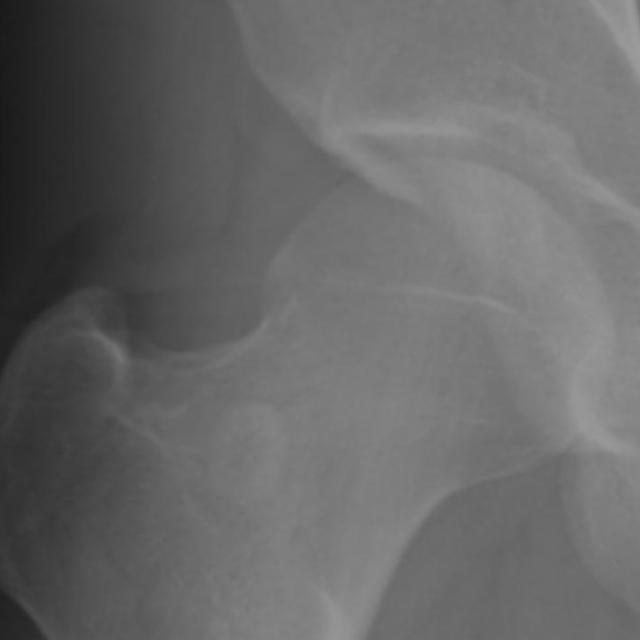Fitted_femural_head: (355, 159, 432, 355)
